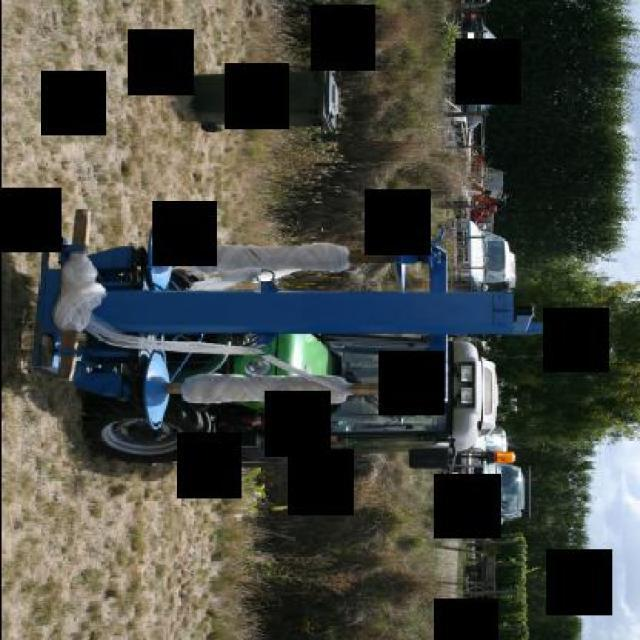Tratores - v5 YOLO V8L 2024-11-13: (0, 201, 585, 497)
